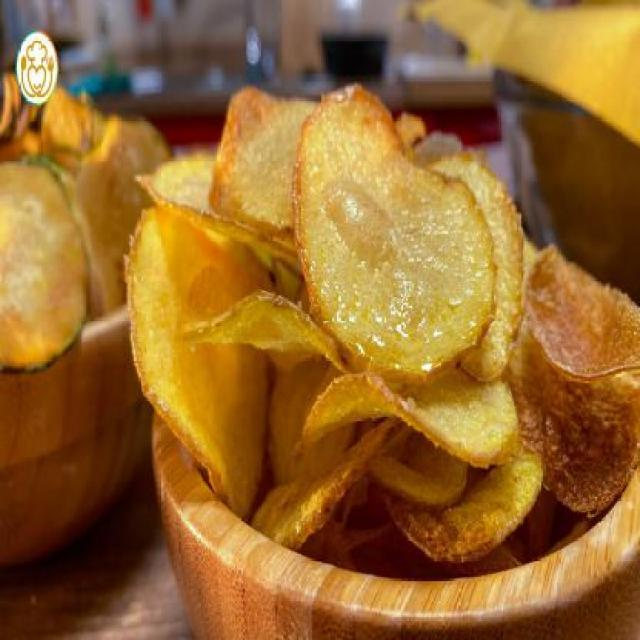Chips packaged: (120, 79, 622, 548)
